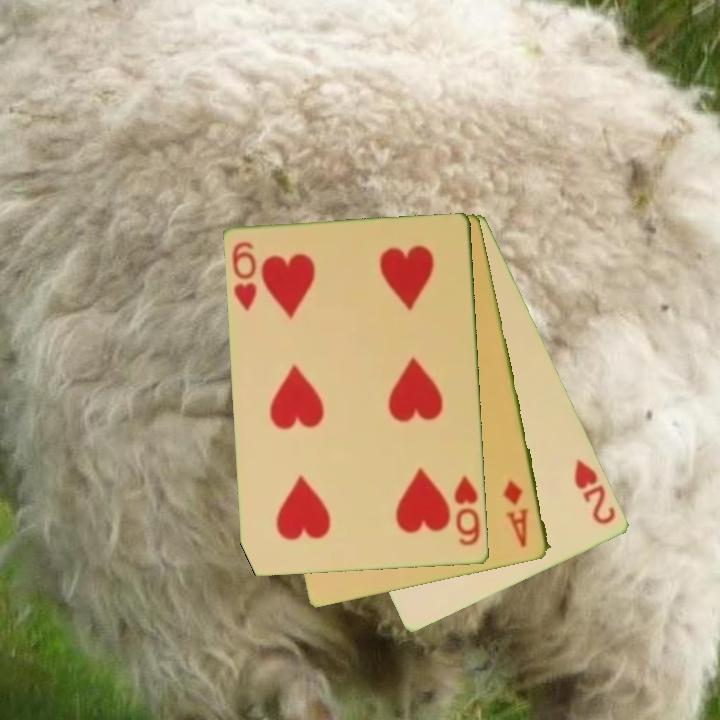2h: (571, 455, 619, 528)
6h: (228, 238, 261, 314), (451, 472, 483, 549)
Ad: (500, 476, 533, 551)
